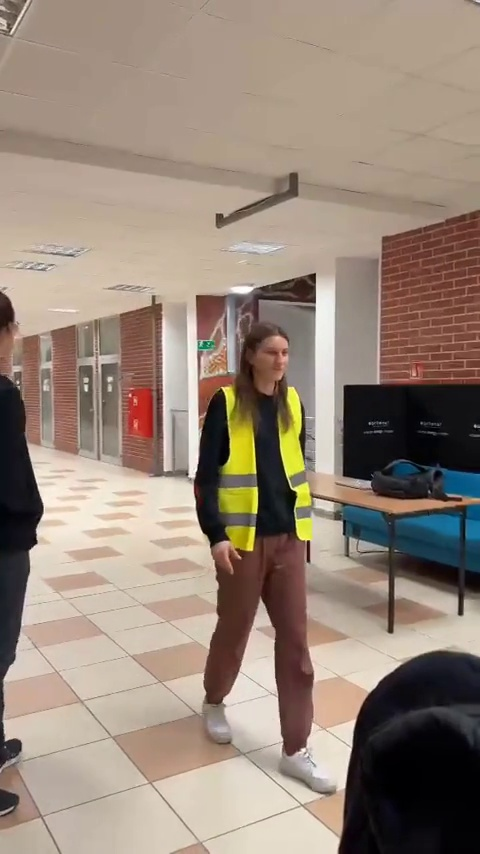vest: (193, 325, 341, 801)
